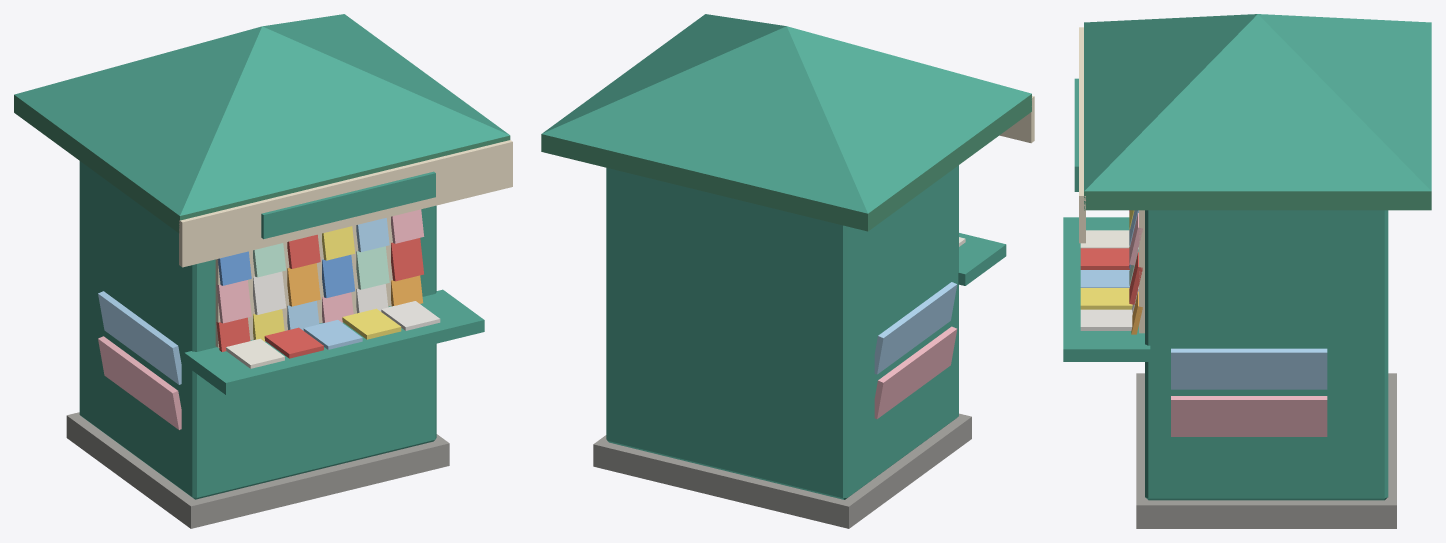
File: prop_kiosk_01.glb
3 renders of one model, left to right at view 1: azimuth 30°, elevation 25°; view 2: azimuth 150°, elevation 25°; view 3: azimuth 270°, elevation 25°, orthographic. The views are drawn at different scales.
Parts seen in each view (by area): view 1: prop_kiosk_01_body; view 2: prop_kiosk_01_body; view 3: prop_kiosk_01_body.
Boxes of the visible parts, left/top/right/bottom form: prop_kiosk_01_body: left=14, top=14, right=512, bottom=528; prop_kiosk_01_body: left=541, top=14, right=1034, bottom=528; prop_kiosk_01_body: left=1063, top=14, right=1431, bottom=528.
Size of the model in its own units: 2.3 by 2.85 by 2.12.
